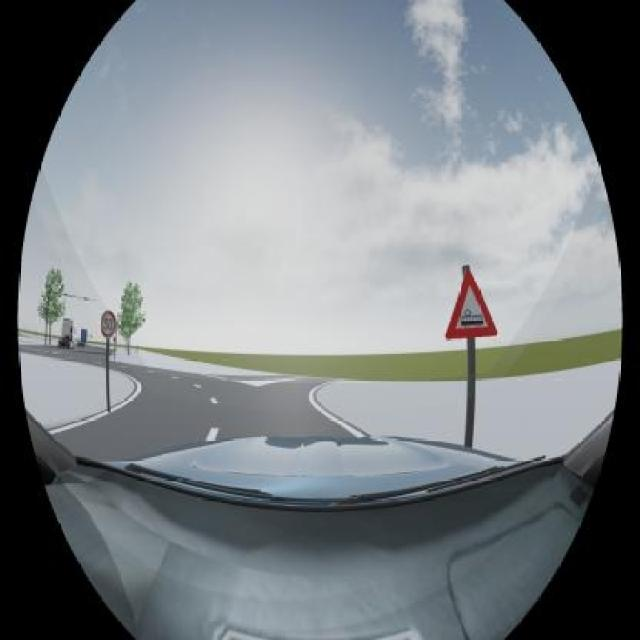forb_speed_over_50: (100, 310, 117, 339)
